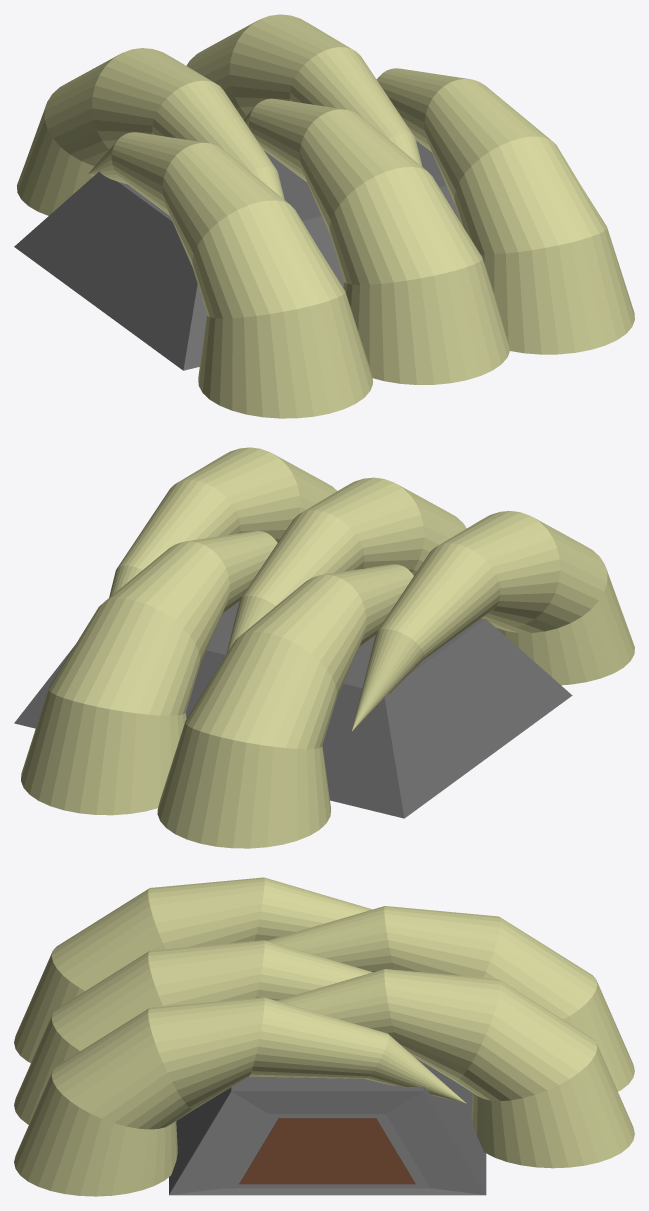
The model's file is Concept Model Bunker.fbx.
3 views of the same model, one above another, from view 1: azimuth 30°, elevation 25°; view 2: azimuth 150°, elevation 25°; view 3: azimuth 270°, elevation 25° (orthographic). The views are drawn at different scales.
Visible parts, largest first — view 1: Cube; view 2: Cube; view 3: Cube.
Boxes of the visible parts, x1,y1,x2,y2 form: Cube: (14, 14, 634, 418); Cube: (14, 447, 634, 848); Cube: (14, 877, 634, 1196).
Size of the model in its own units: 781 by 314 by 1084.
